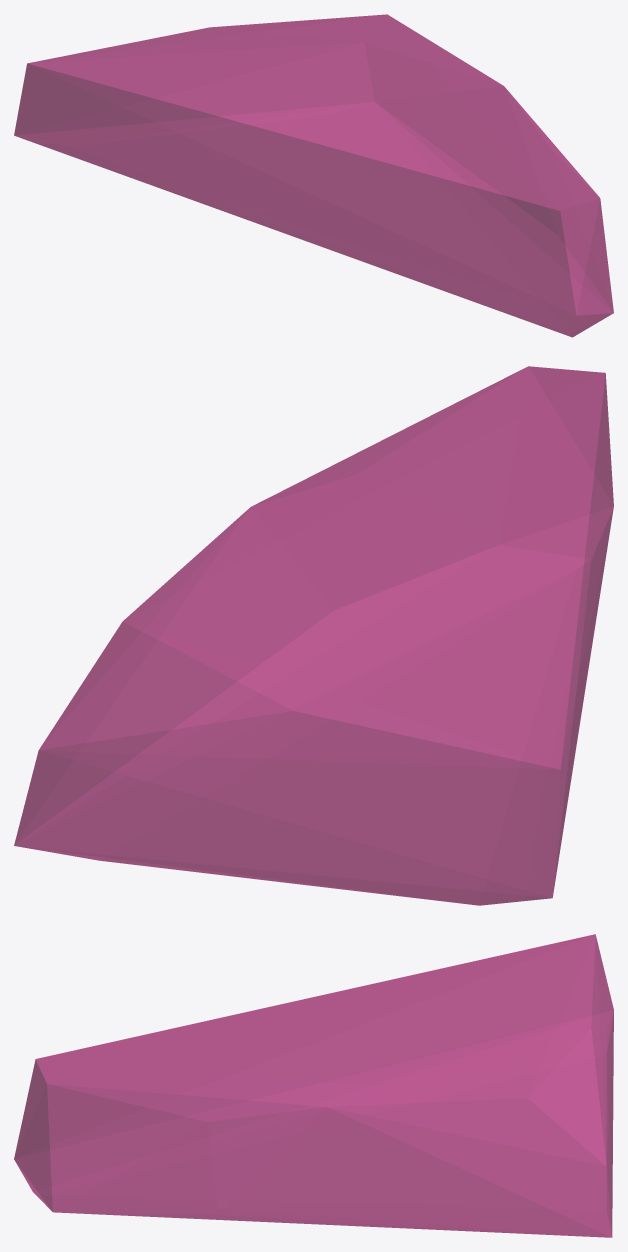
The picture shows the model from 3 angles, top to bottom: view 1: azimuth 30°, elevation 25°; view 2: azimuth 150°, elevation 25°; view 3: azimuth 270°, elevation 25°; orthographic projection. The views are drawn at different scales.
Visible parts, largest first — view 1: Shape_IndexedFaceSet.176_Shape_IndexedFaceSet.217; view 2: Shape_IndexedFaceSet.176_Shape_IndexedFaceSet.217; view 3: Shape_IndexedFaceSet.176_Shape_IndexedFaceSet.217.
Boxes of the visible parts, x1,y1,x2,y2 form: Shape_IndexedFaceSet.176_Shape_IndexedFaceSet.217: (14, 14, 613, 337); Shape_IndexedFaceSet.176_Shape_IndexedFaceSet.217: (14, 366, 613, 905); Shape_IndexedFaceSet.176_Shape_IndexedFaceSet.217: (14, 934, 613, 1237).
Size of the model in its own units: 0.2723 by 0.0965 by 0.3951.
